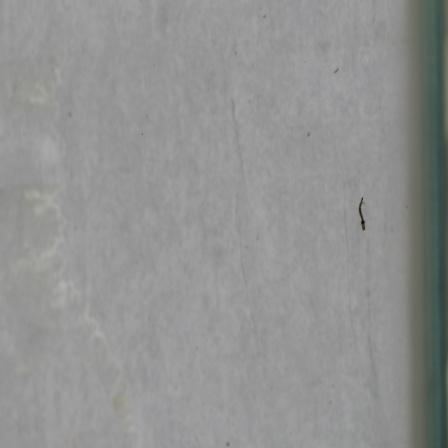Jentik-Nyamuk: (354, 192, 371, 234)
